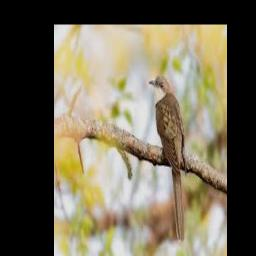Cuckoo: (148, 75, 186, 245)
